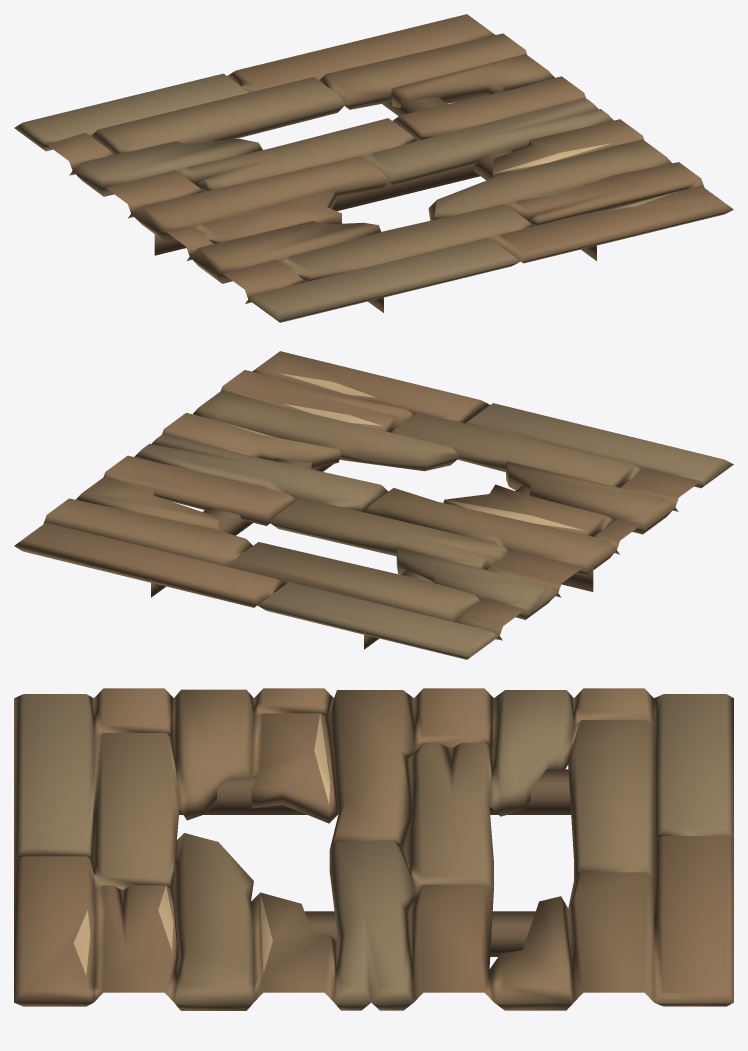
Rendered from rpgpp_av_floor_01c_3x3_2side.gltf.
The picture shows the model from 3 angles, top to bottom: view 1: azimuth 30°, elevation 25°; view 2: azimuth 150°, elevation 25°; view 3: azimuth 270°, elevation 25°; orthographic projection. The views are drawn at different scales.
Parts seen in each view (by area): view 1: rpgpp_av_floor_01c_3x3_2side; view 2: rpgpp_av_floor_01c_3x3_2side; view 3: rpgpp_av_floor_01c_3x3_2side.
Boxes of the visible parts, <box> form: rpgpp_av_floor_01c_3x3_2side: <box>14,14,733,322</box>; rpgpp_av_floor_01c_3x3_2side: <box>14,351,733,659</box>; rpgpp_av_floor_01c_3x3_2side: <box>14,688,733,1010</box>.
Size of the model in its own units: 0.03 by 0.00215 by 0.03.
Materials: 1 (1 with a texture image).
